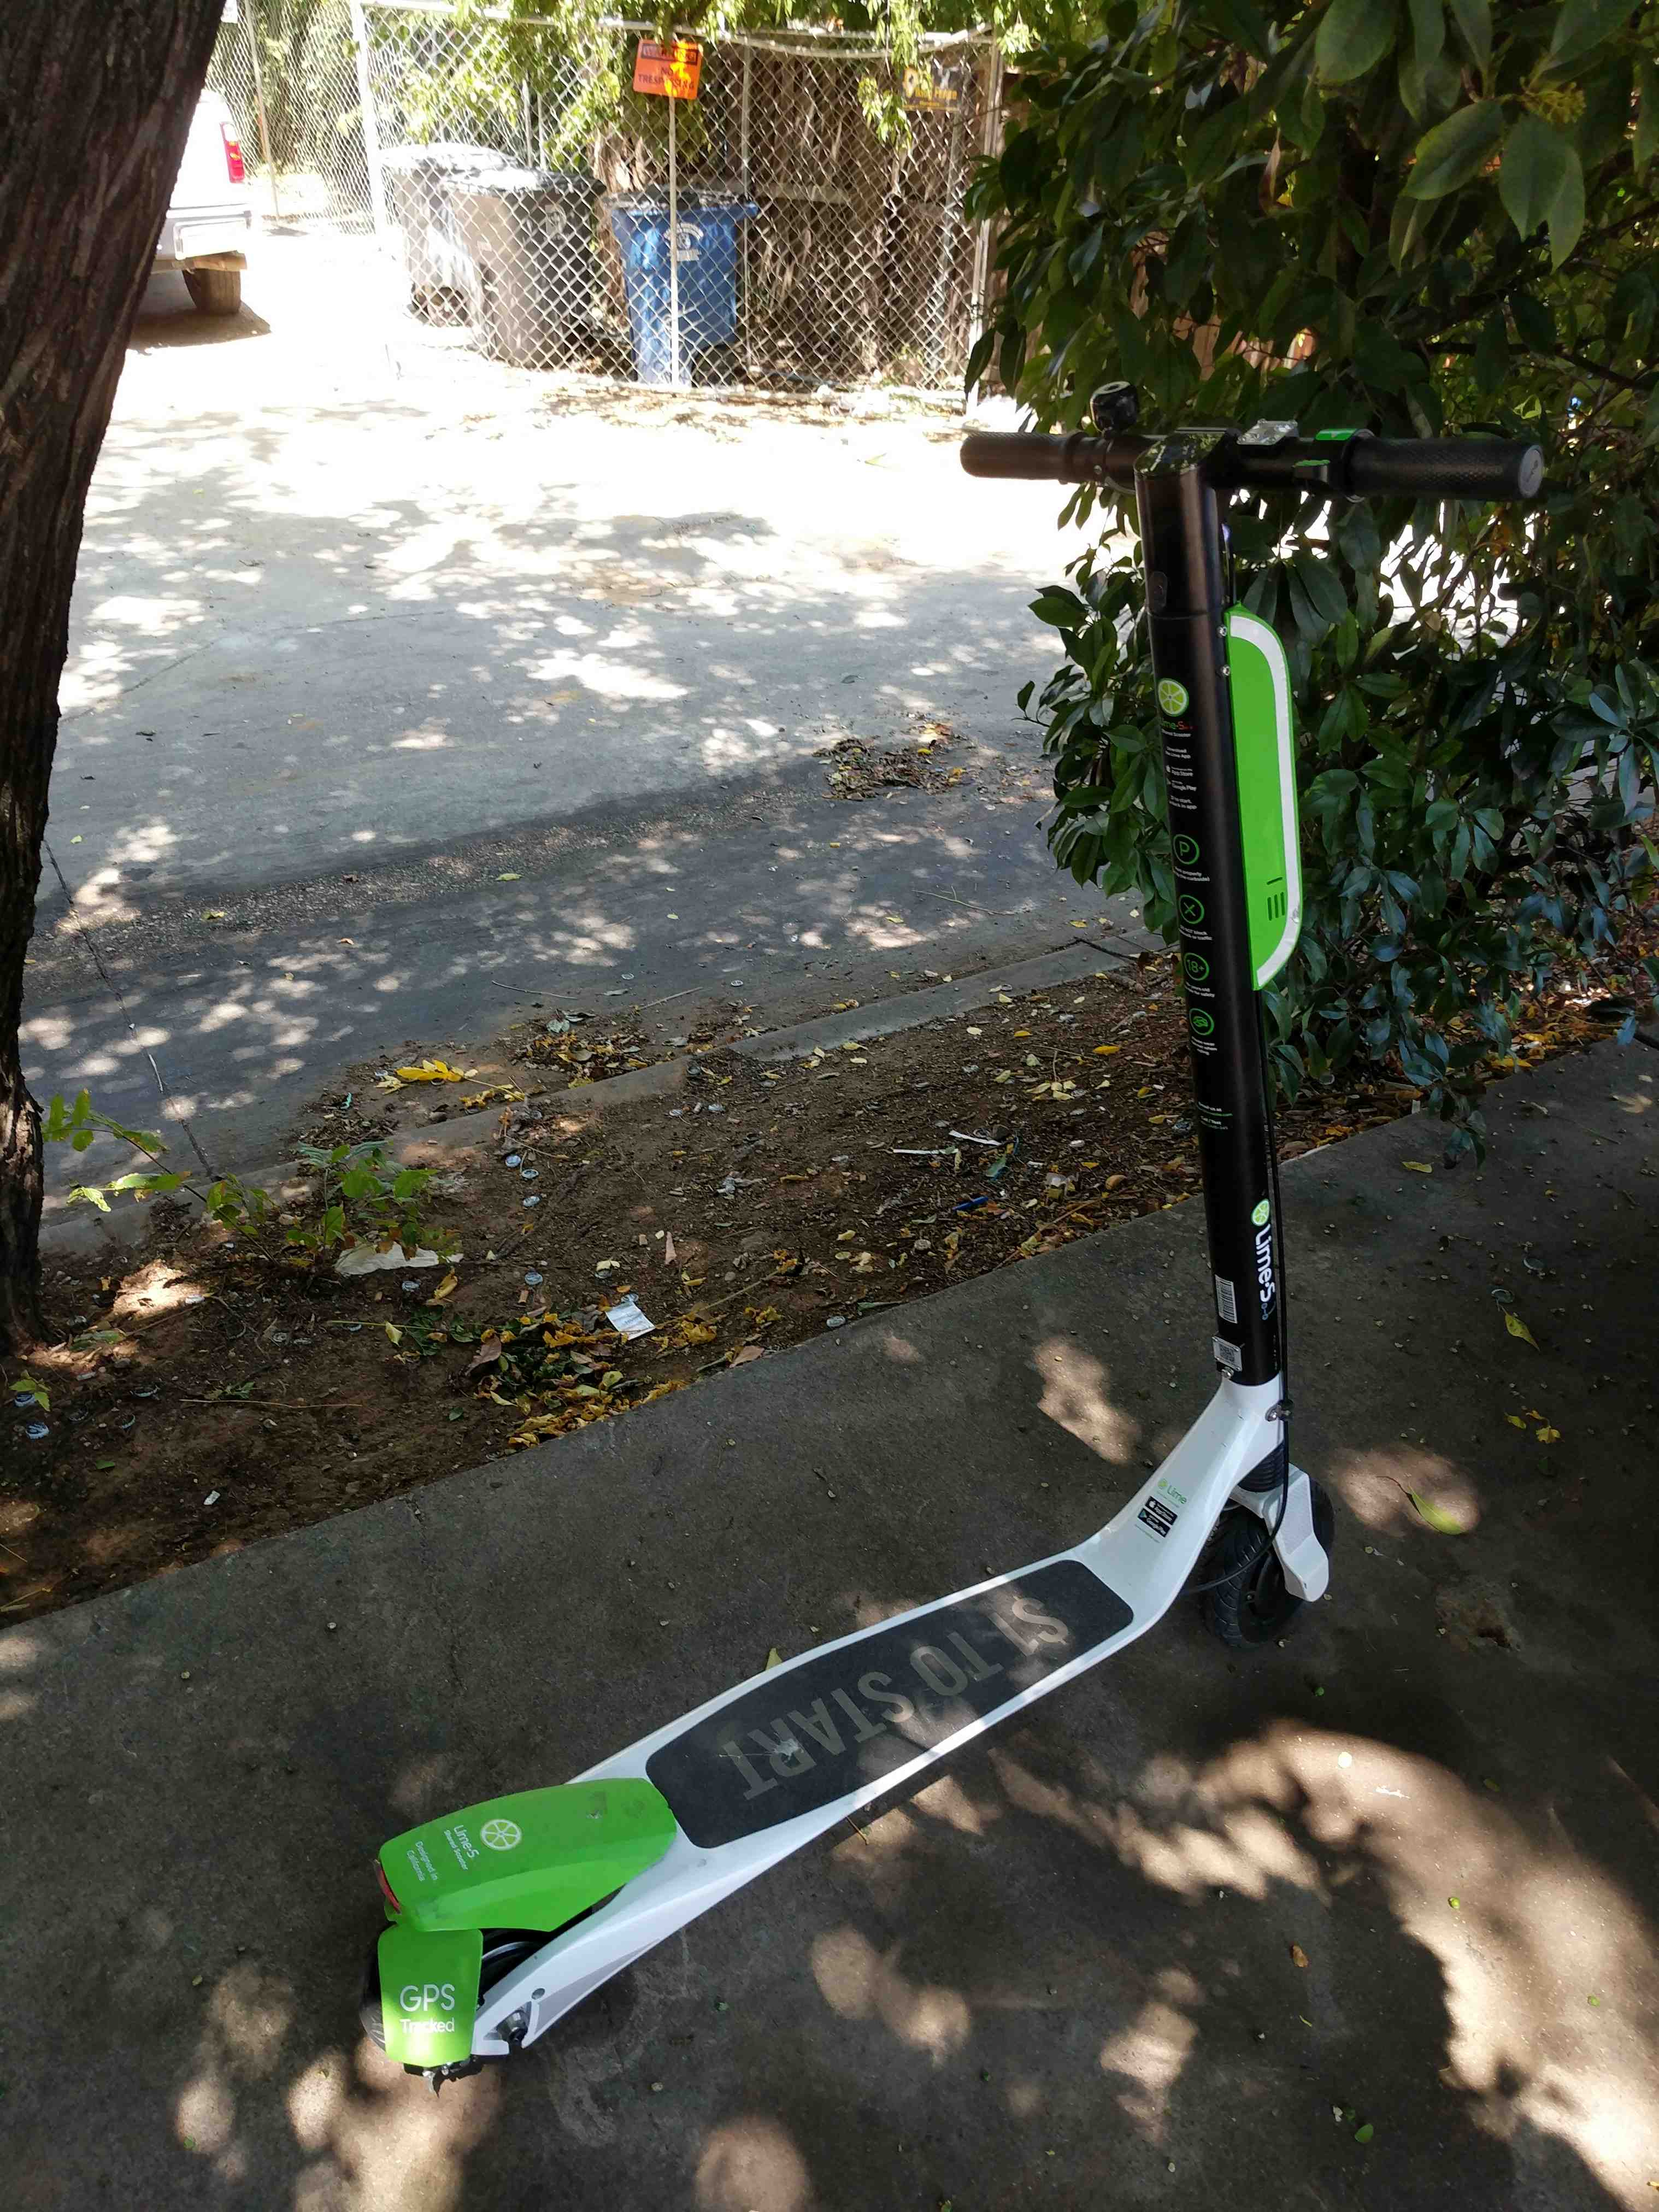scooter: (289, 314, 1542, 2083)
